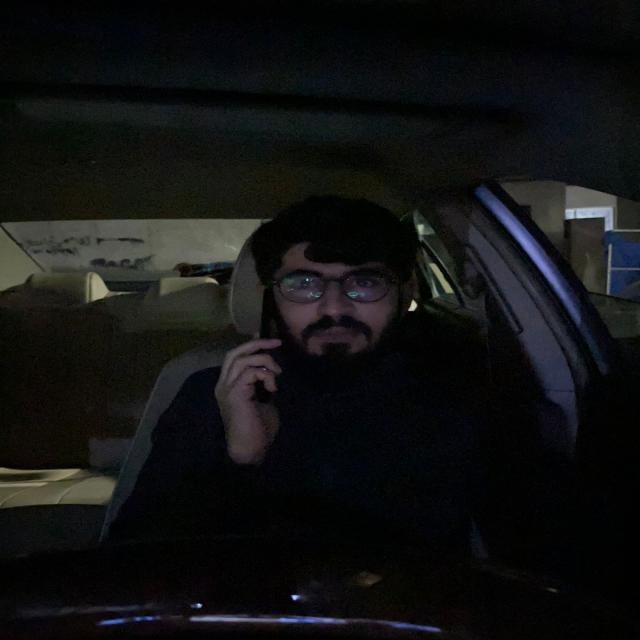mobile: (253, 296, 292, 416)
person: (260, 211, 413, 364)
